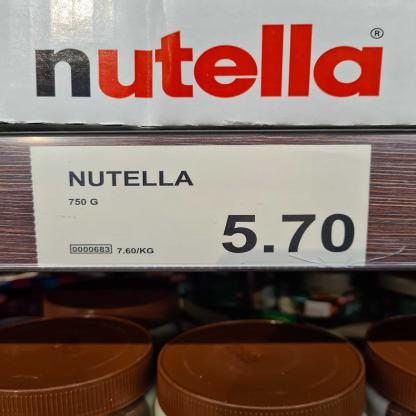prtg: (32, 147, 372, 267)
